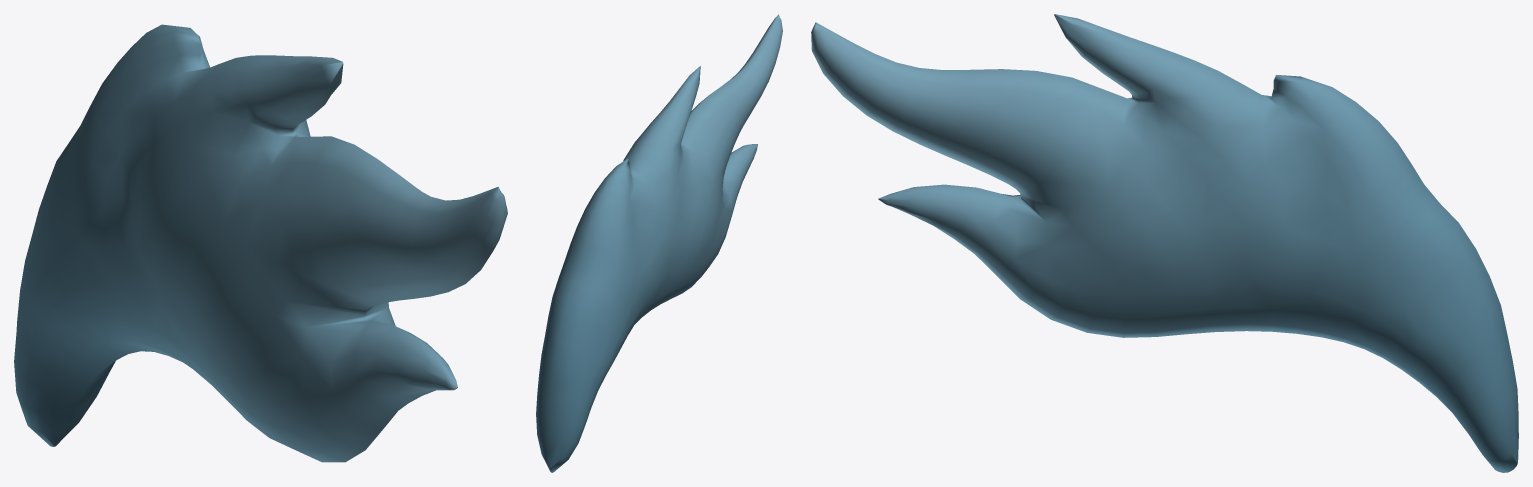
File: potato_hair2.fbx
3 renders of one model, left to right at view 1: azimuth 30°, elevation 25°; view 2: azimuth 150°, elevation 25°; view 3: azimuth 270°, elevation 25°, orthographic. The views are drawn at different scales.
Parts seen in each view (by area): view 1: hair_3; view 2: hair_3; view 3: hair_3.
Part boxes in pixels (x1,y1,x2,y2): hair_3: [14, 24, 507, 462]; hair_3: [536, 14, 782, 472]; hair_3: [811, 14, 1518, 472].
Size of the model in its own units: 0.3742 by 1.51 by 2.11.
